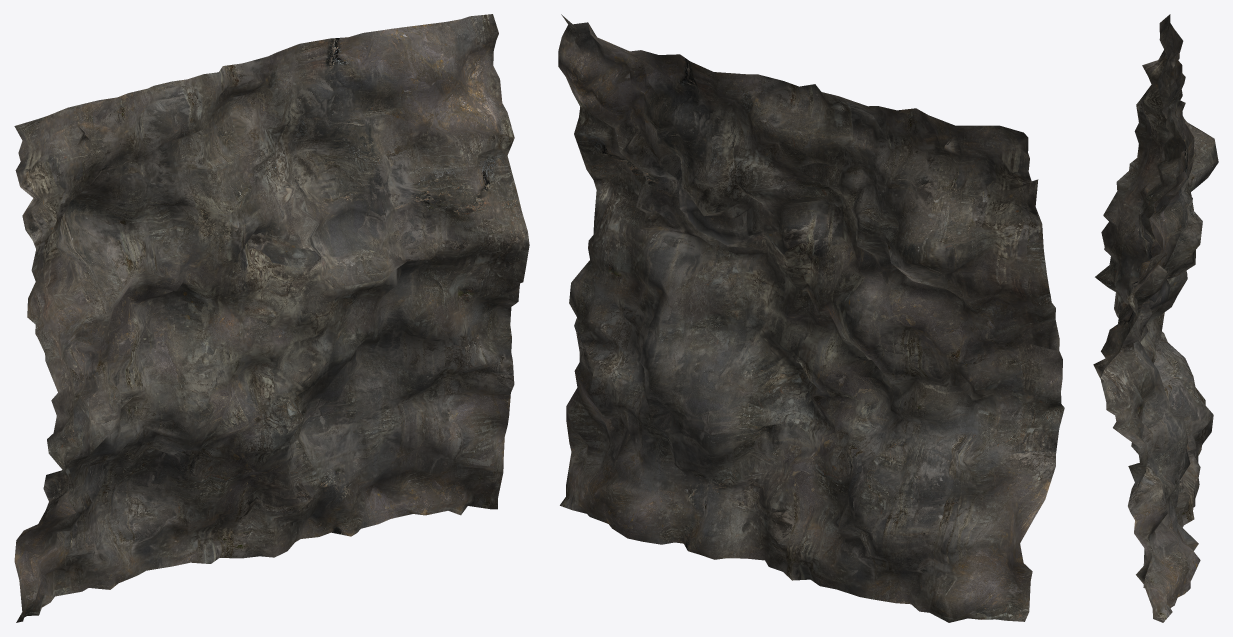
The model's file is Wall_1.fbx.
3 renders of one model, left to right at view 1: azimuth 30°, elevation 25°; view 2: azimuth 150°, elevation 25°; view 3: azimuth 270°, elevation 25°, orthographic. The views are drawn at different scales.
Visible parts, largest first — view 1: Wall_1; view 2: Wall_1; view 3: Wall_1.
Boxes of the visible parts, left/top/right/bottom form: Wall_1: left=14, top=14, right=529, bottom=622; Wall_1: left=558, top=14, right=1064, bottom=622; Wall_1: left=1093, top=14, right=1218, bottom=622.
Size of the model in its own units: 409 by 402 by 110.
